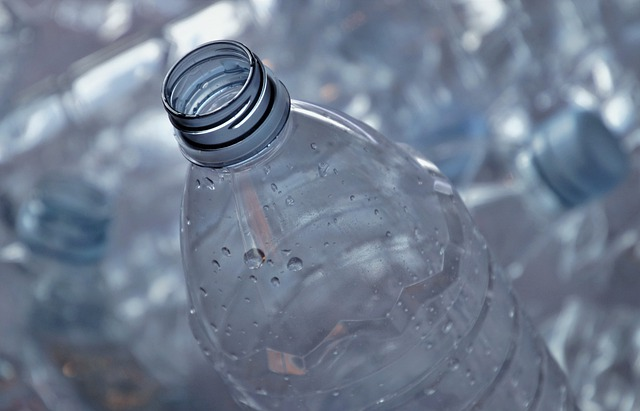plastic_bottle: (155, 34, 581, 411)
